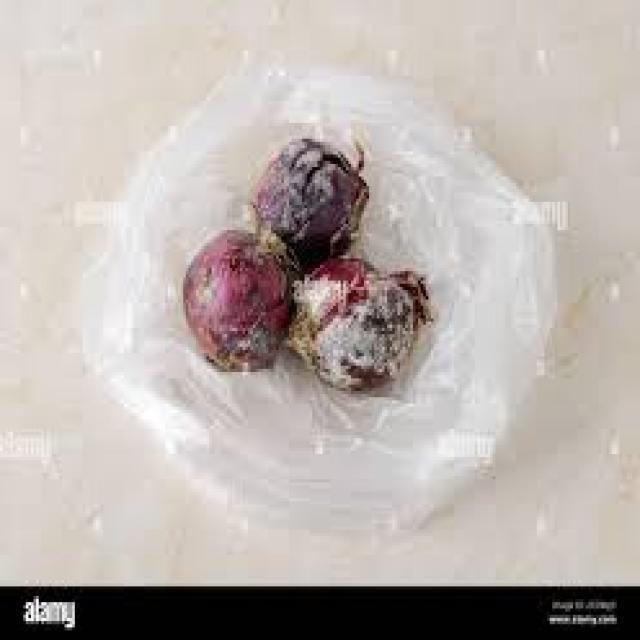Onion: (284, 260, 432, 395), (181, 227, 305, 373), (249, 134, 374, 276)
